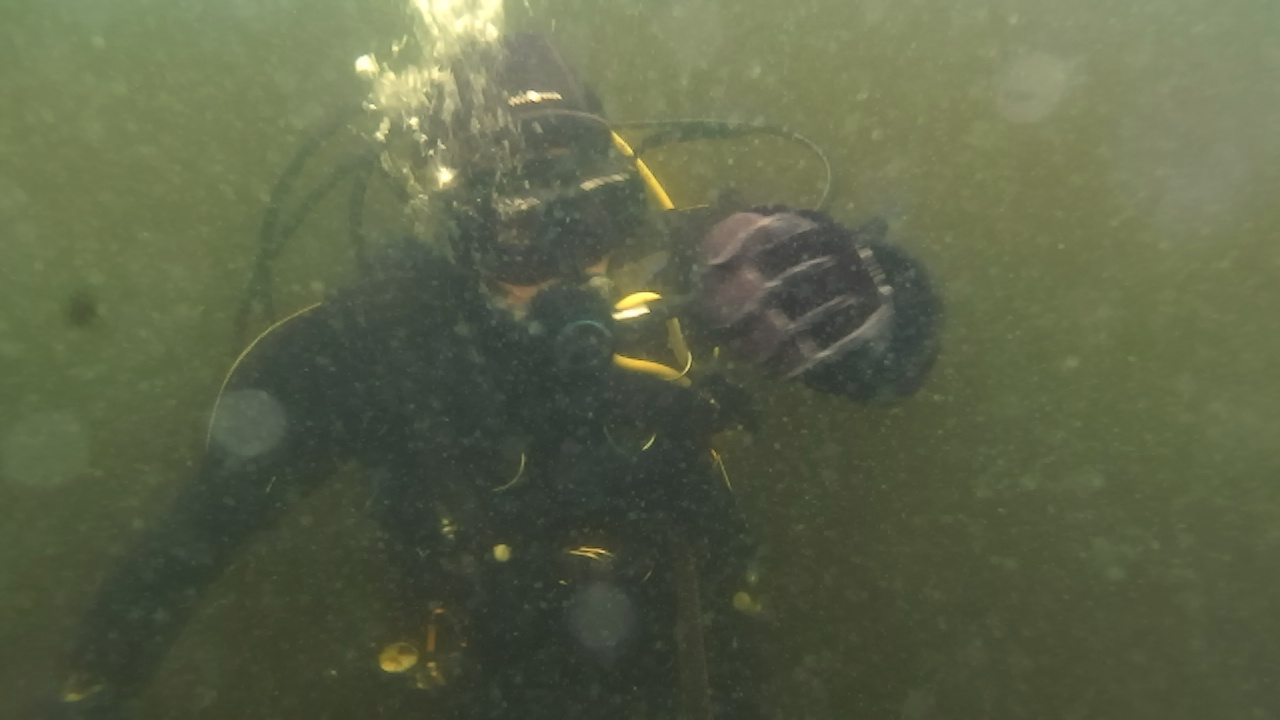Hand: (696, 190, 902, 396)
Head: (400, 48, 638, 342)
